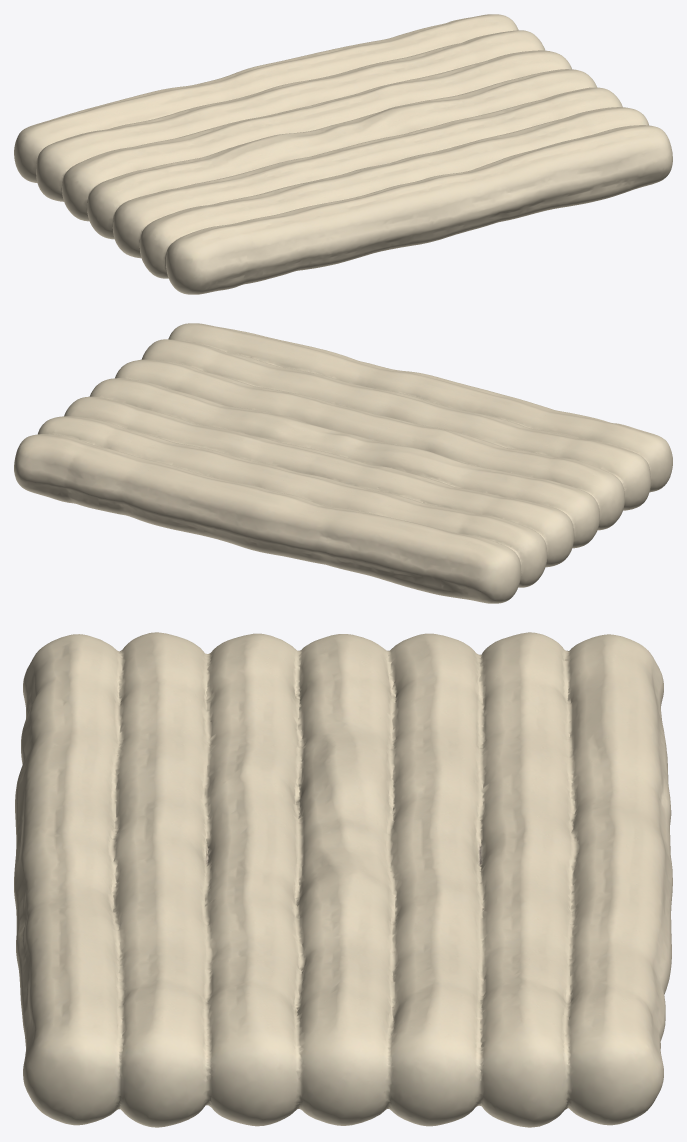
Rendered from bunja.fbx.
The picture shows the model from 3 angles, top to bottom: view 1: azimuth 30°, elevation 25°; view 2: azimuth 150°, elevation 25°; view 3: azimuth 270°, elevation 25°; orthographic projection. The views are drawn at different scales.
Visible parts, largest first — view 1: Mesh_0; view 2: Mesh_0; view 3: Mesh_0.
Part boxes in pixels (x1,y1,x2,y2): Mesh_0: [14, 14, 672, 294]; Mesh_0: [14, 323, 672, 603]; Mesh_0: [14, 632, 672, 1127].
Size of the model in its own units: 190 by 22.39 by 123.
1 material, 1 textured.
